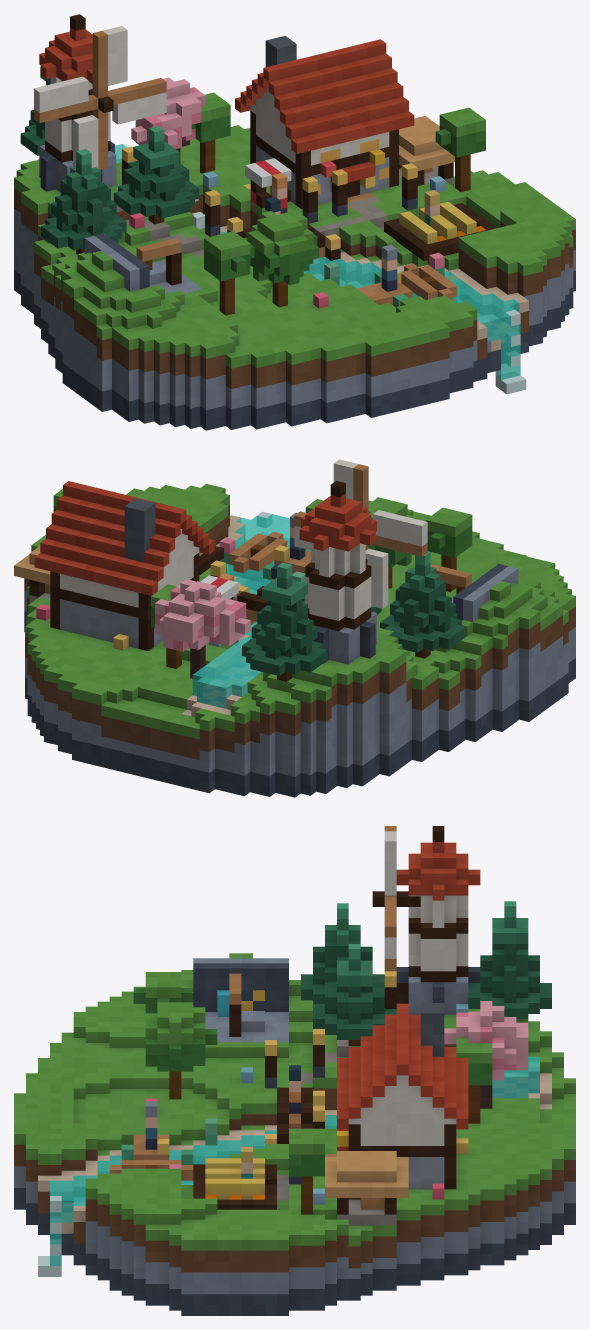
File: valley_stage3_town.glb
The picture shows the model from 3 angles, top to bottom: view 1: azimuth 30°, elevation 25°; view 2: azimuth 150°, elevation 25°; view 3: azimuth 270°, elevation 25°; orthographic projection. The views are drawn at different scales.
Visible parts, largest first — view 1: VoxelDiorama; view 2: VoxelDiorama; view 3: VoxelDiorama.
Boxes of the visible parts, box(x1,y1,x2,y2) form: VoxelDiorama: box(14, 14, 575, 430); VoxelDiorama: box(14, 459, 575, 797); VoxelDiorama: box(14, 826, 575, 1315).
Size of the model in its own units: 24.5 by 14.5 by 23.5.
